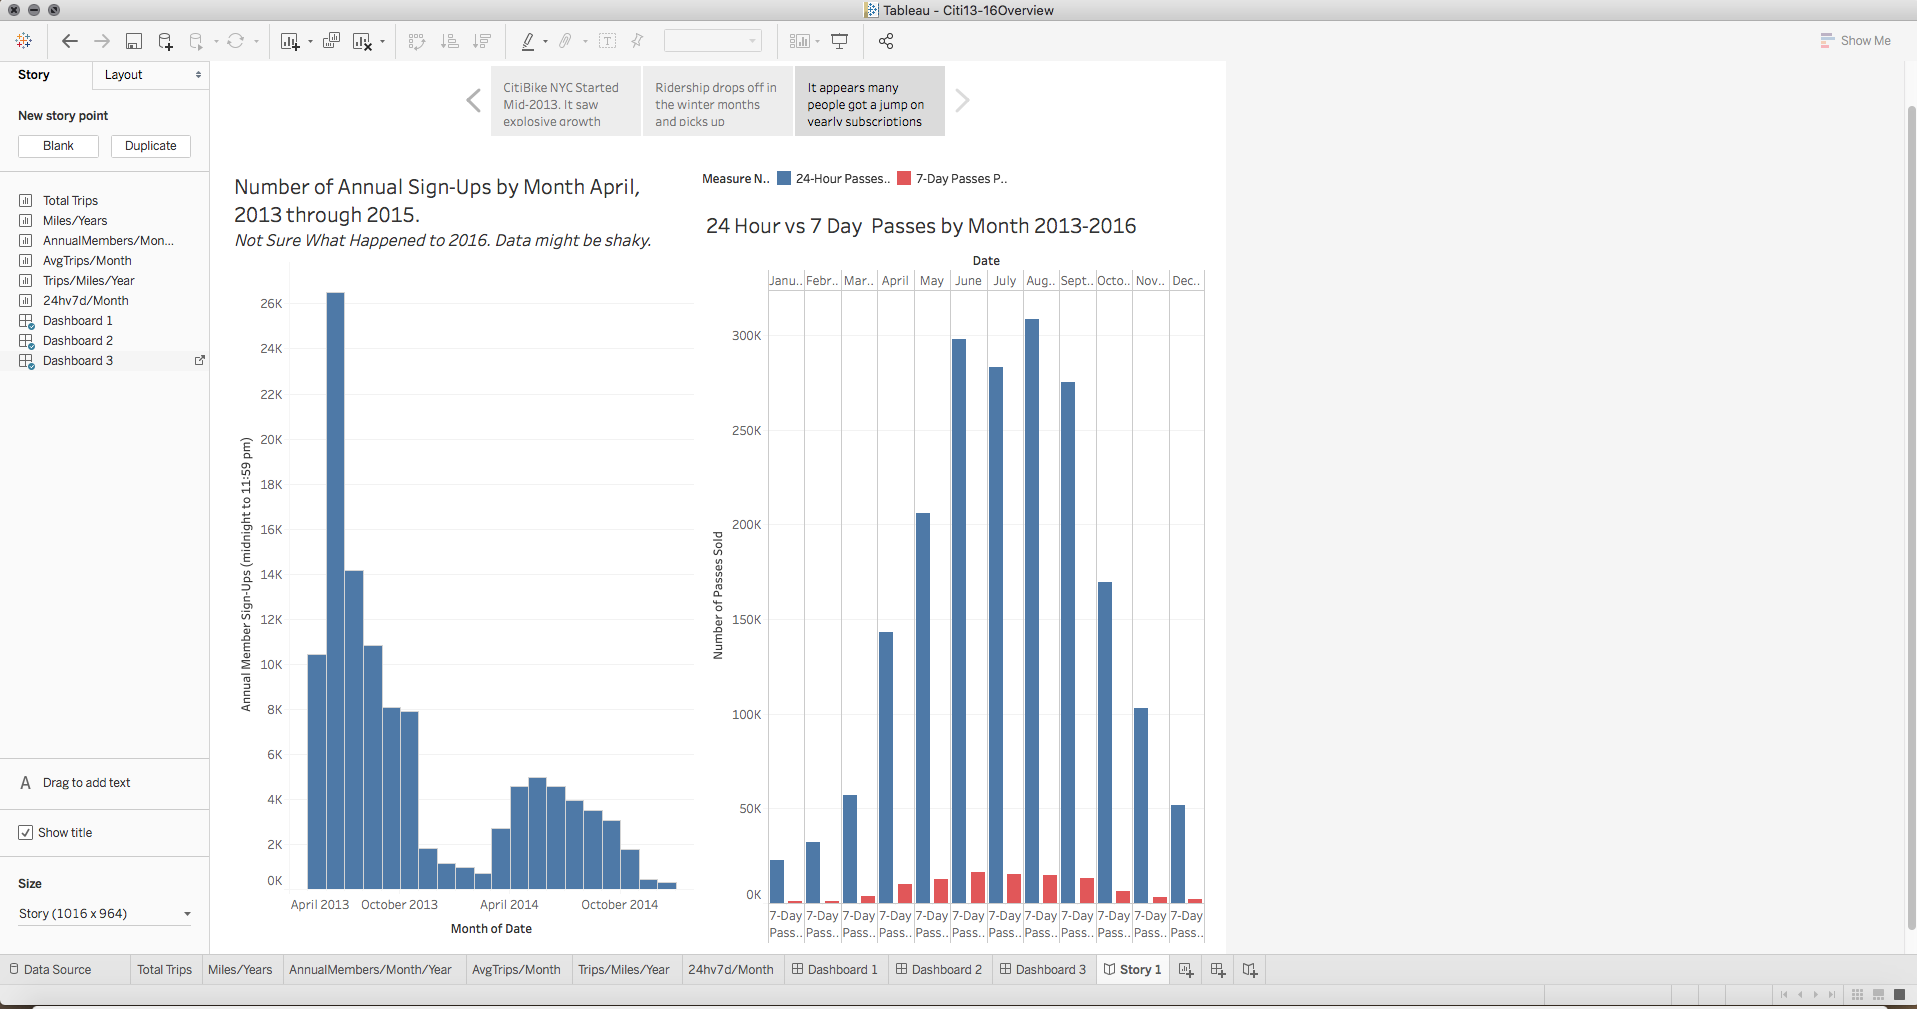

Layout of this report page (visuals, bound fields, positions):
{"tool":"tableau","page":{"name":"Dashboard 3","canvas":[1000,800],"ordinal":2},"visuals":[{"type":"worksheet","title":"AnnualMembers/Month/Year","mark":"Bar","rows":["59 pm)"],"cols":["Date"],"box":[8,8,472,784]},{"type":"legend","title":"24hv7d/Month","param":"[federated.0h27gye1qyo4i51185m8p0l1csyk].[:Measure Names]","box":[480,8,512,39]},{"type":"worksheet","title":"24hv7d/Month","mark":"Bar","cols":["Date"],"box":[480,47,512,745]}]}

Visuals, with their boxes on the page's 1000x800 design canvas (x1, y1, x2, y2). These are canvas units, not pixel positions in the 1917x1009 screenshot, which may show the page scaled, cropped or inside an application window:
"AnnualMembers/Month/Year" worksheet (Bar marks): box(8, 8, 480, 792)
"24hv7d/Month" legend: box(480, 8, 992, 47)
"24hv7d/Month" worksheet (Bar marks): box(480, 47, 992, 792)
